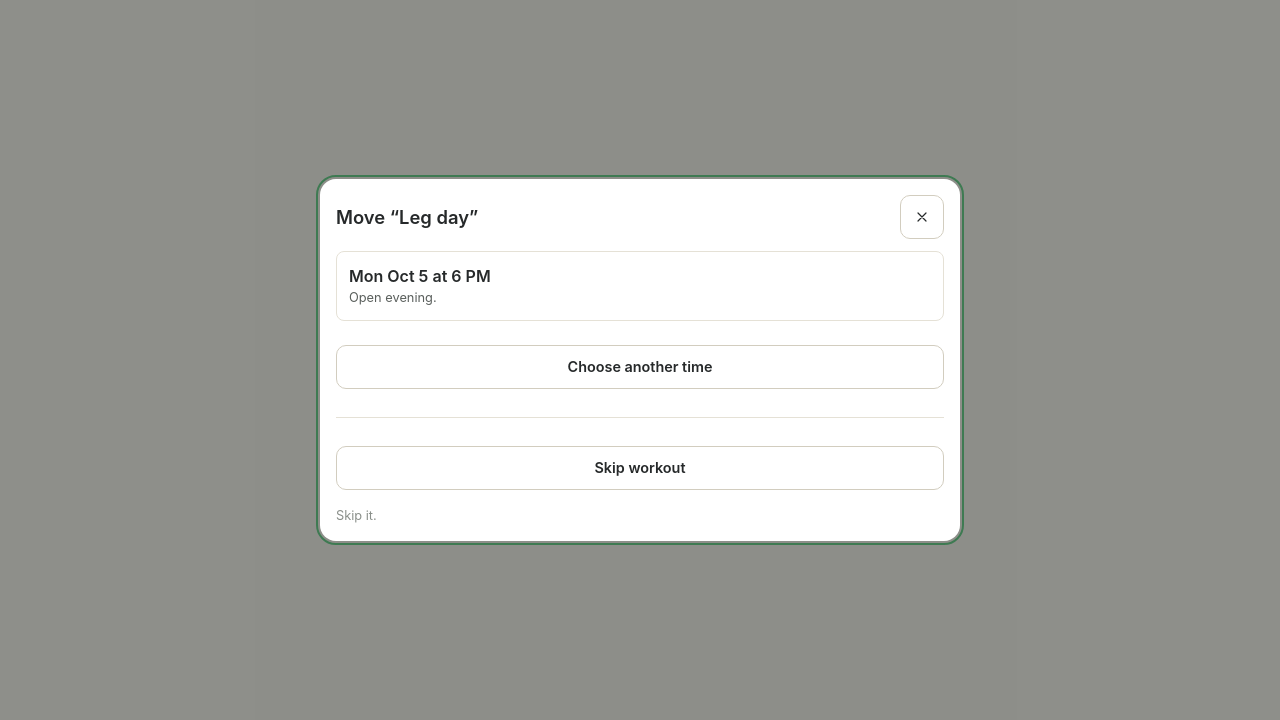
it: a refusal says the server's words (the session guard, 409 `{ error, why }`) › `session_changed`, then Skip pressed (M-3): while the skip is on its way the sheet says nothing of the move; when it fails, the skip's words alone
The width and height of the screenshot is (1280, 720).
Click the button "Mon Oct 5 at 6 PM Open evening.". click: (389, 276)
box: 336,251 -> 944,320
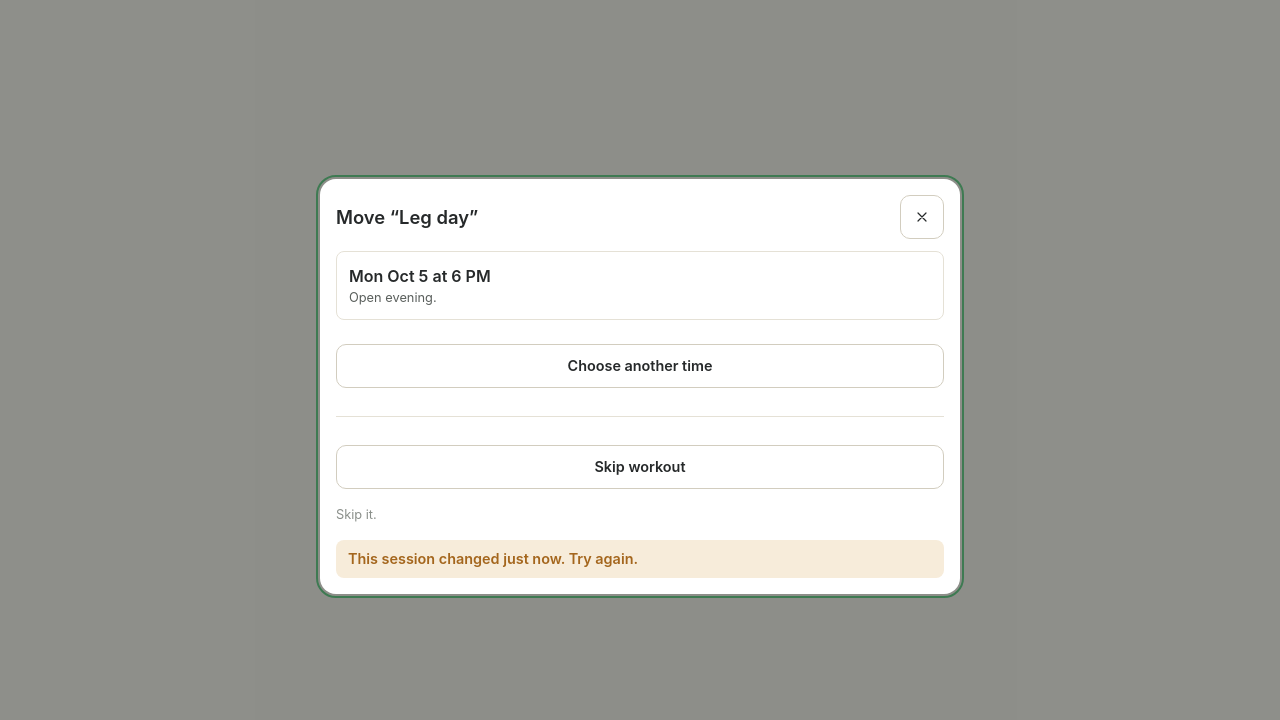
Click the button "Skip workout". click: (640, 467)
box: 336,445 -> 944,489
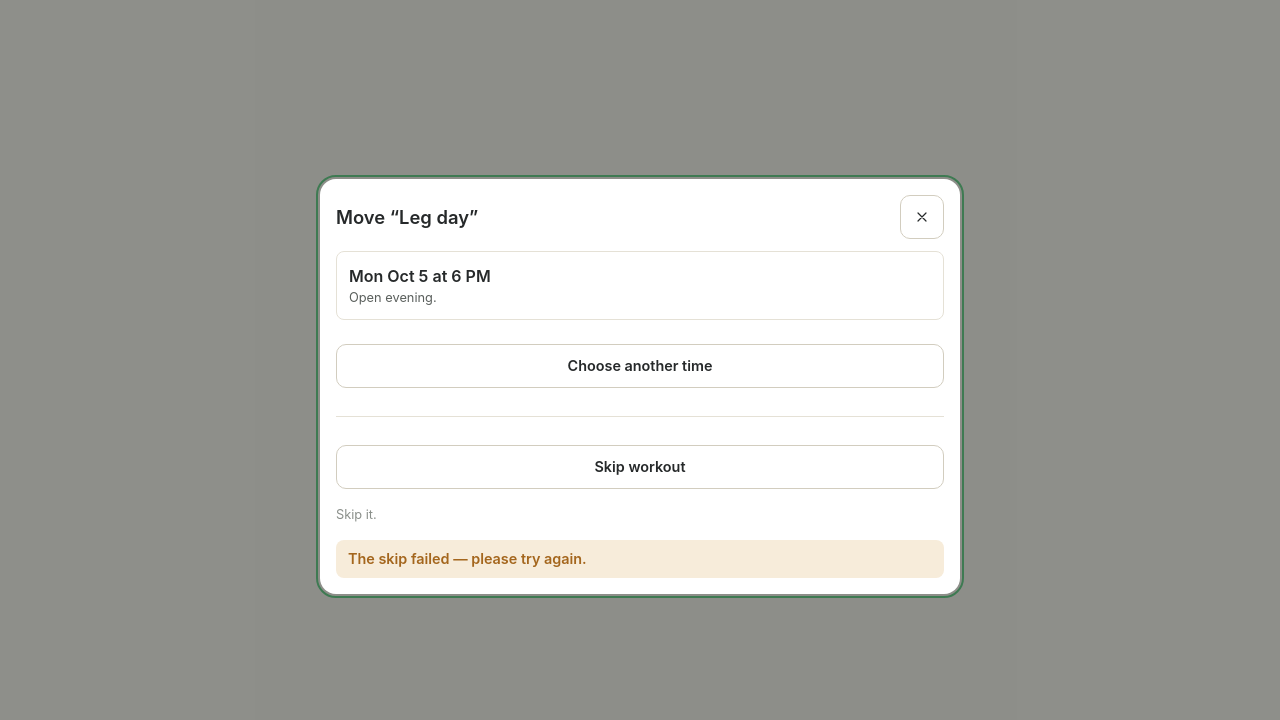
Result: the text "This session changed just now. Try again." is gone
